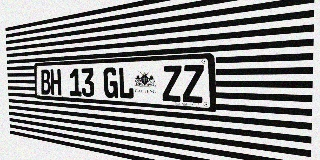1: (69, 68, 81, 96)
3: (81, 68, 94, 97)
B: (40, 69, 51, 95)
G: (103, 67, 118, 98)
H: (50, 69, 61, 95)
L: (118, 67, 134, 99)
Z: (182, 64, 204, 103), (162, 65, 182, 102)
